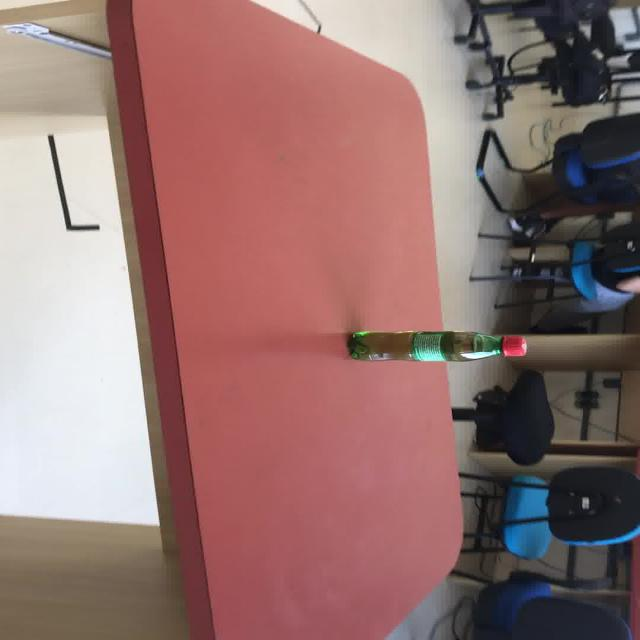guarana: (345, 329, 527, 362)
